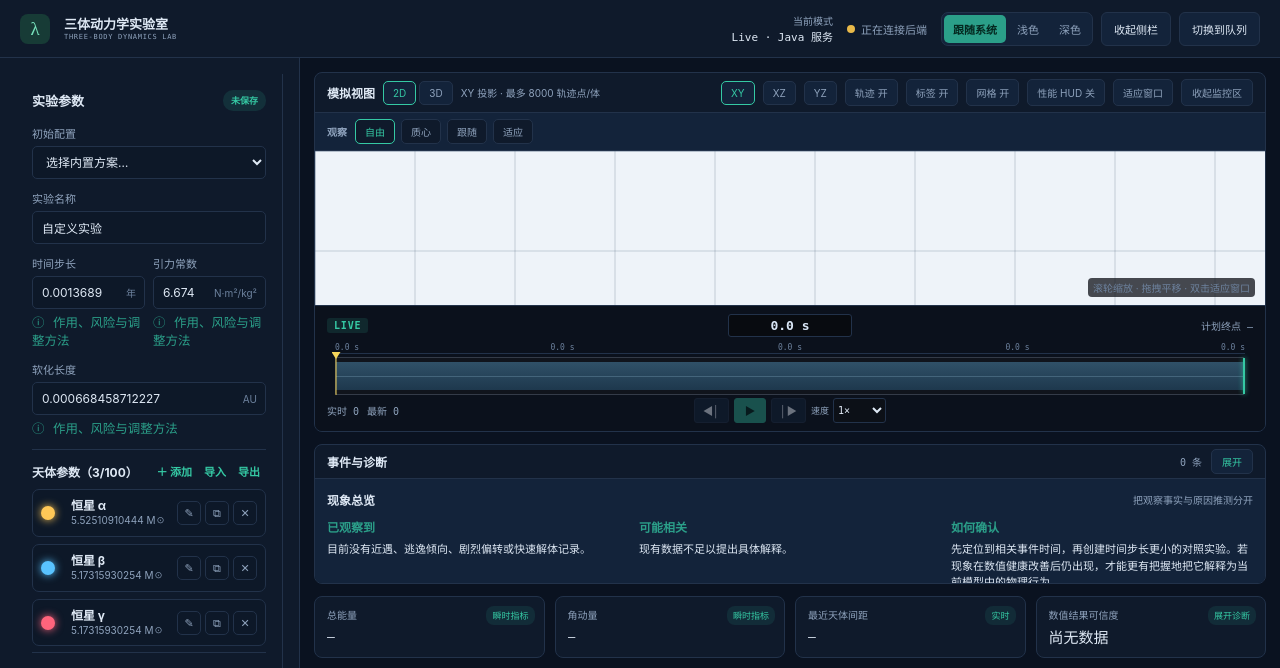
Test case: LabView 监控区 › 收起监控区时同时收起事件与诊断栏目
Click the button with class "monitor-toggle-button" at {"x": 1217, "y": 92}, box top-left (1181, 79), bottom-right (1253, 106)
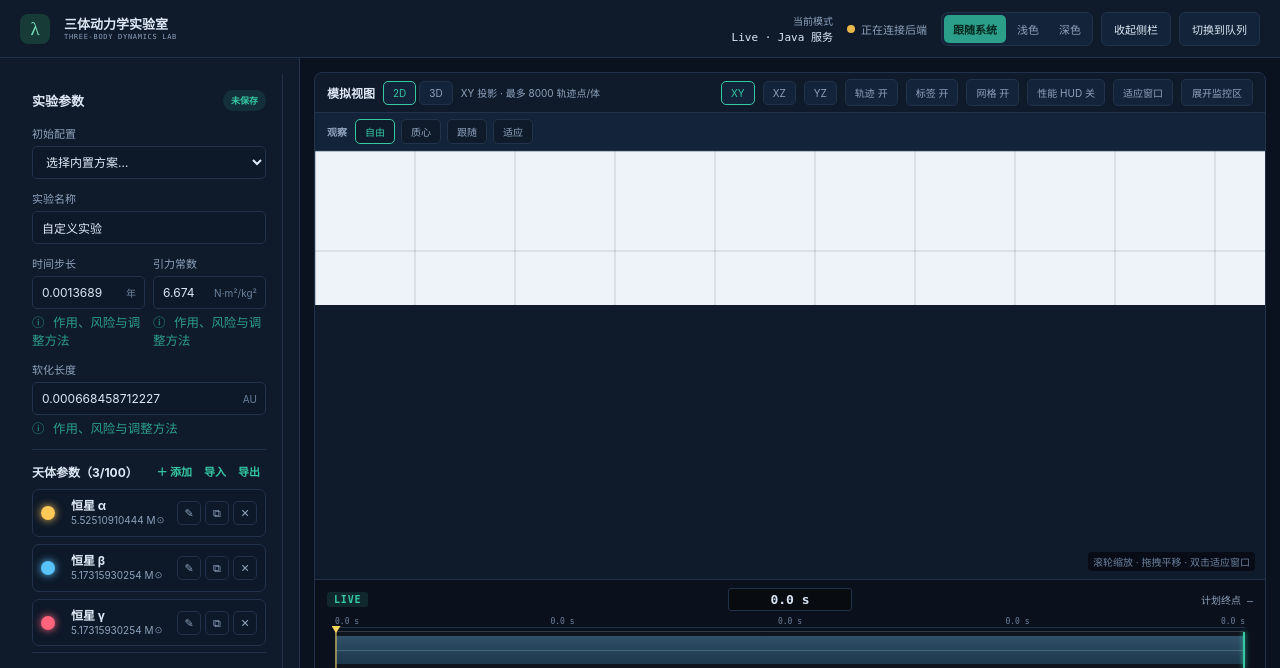
Now the button with class "monitor-toggle-button" reads "展开监控区"
Click the button with class "monitor-toggle-button" at {"x": 1217, "y": 92}, box top-left (1181, 79), bottom-right (1253, 106)
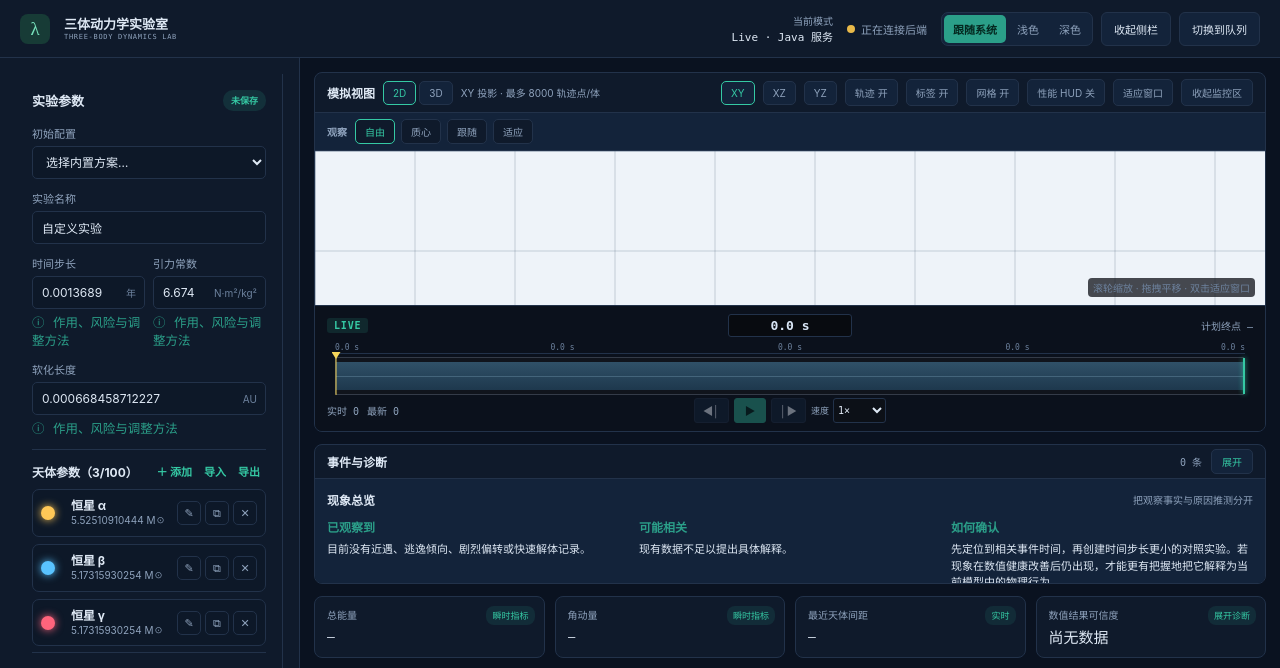
Now the button with class "monitor-toggle-button" reads "收起监控区", box top-left (1181, 79), bottom-right (1253, 106)
